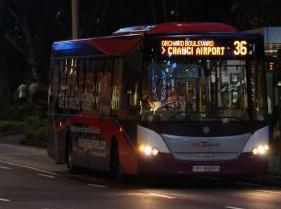Bus: (46, 22, 281, 183)
